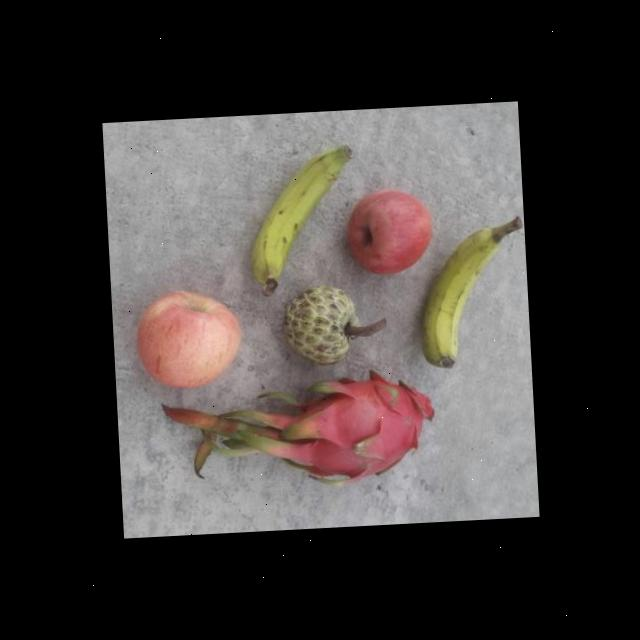Sakya fruit: (280, 282, 388, 369)
apple: (133, 286, 244, 390), (344, 185, 434, 278)
banana: (415, 215, 529, 371), (246, 143, 360, 290)
pitaya: (279, 366, 438, 489)
